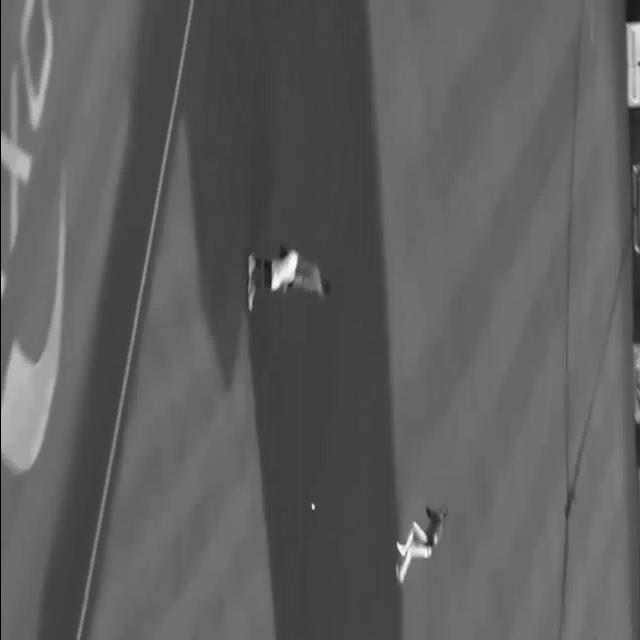baseball: (310, 502, 315, 511)
shoe: (246, 278, 256, 312), (247, 252, 255, 280), (395, 562, 402, 584), (396, 540, 405, 556)
